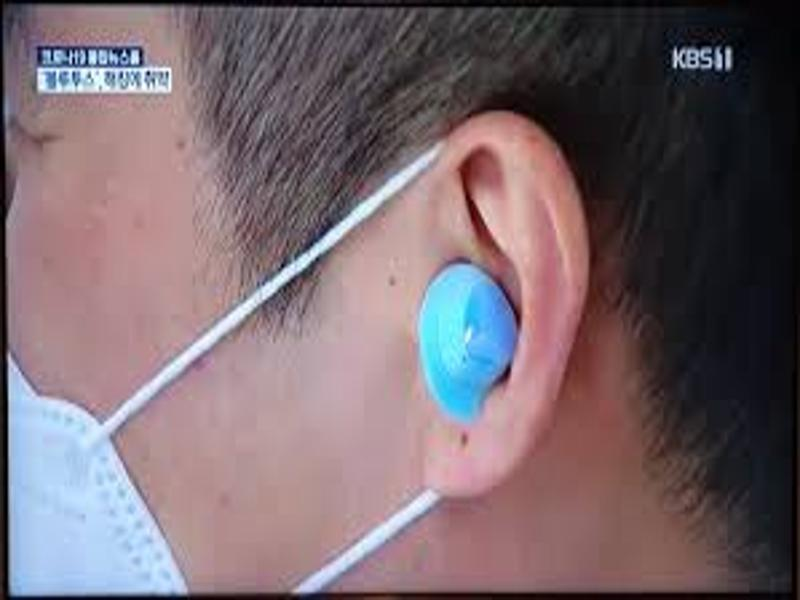headphone: (418, 258, 520, 419)
